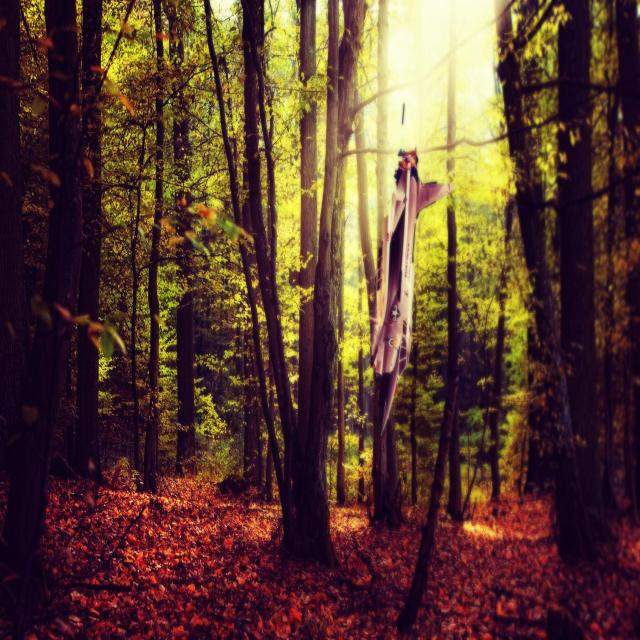airplane: (370, 146, 453, 432)
